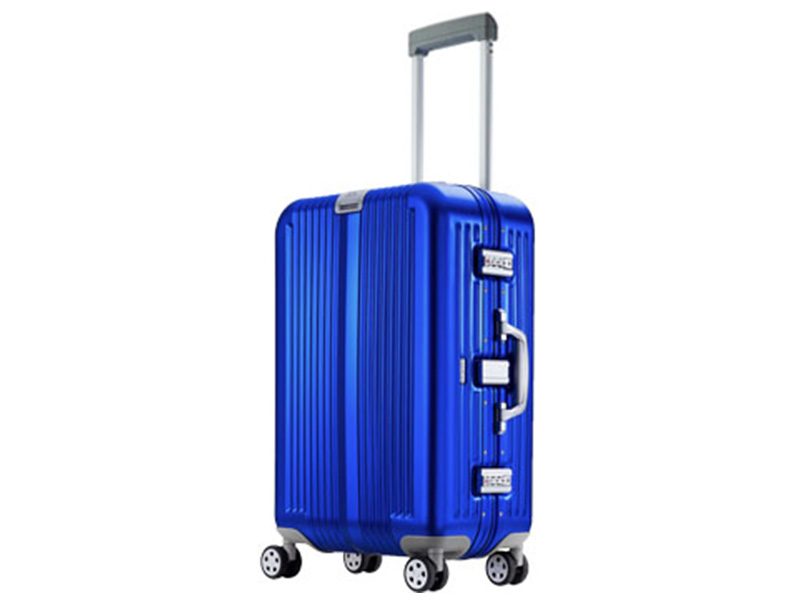luggage: (257, 12, 537, 594)
